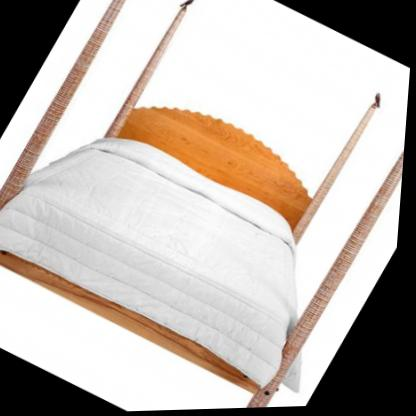Bed: (0, 32, 408, 416)
